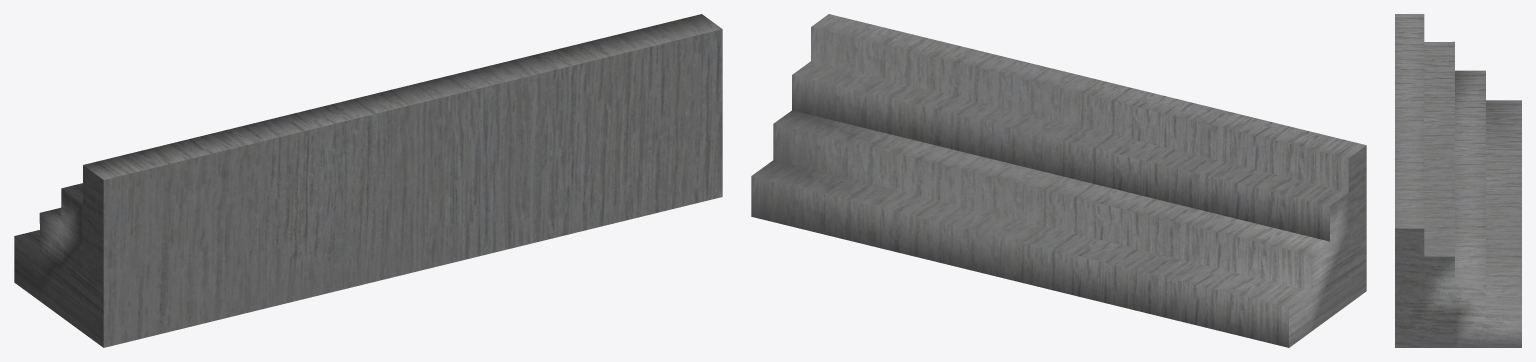
The model's file is StairsBlock.obj.
3 renders of one model, left to right at view 1: azimuth 30°, elevation 25°; view 2: azimuth 150°, elevation 25°; view 3: azimuth 270°, elevation 25°, orthographic. The views are drawn at different scales.
Visible parts, largest first — view 1: polySurface3 polySurface2 pCube7; view 2: polySurface3 polySurface2 pCube7; view 3: polySurface3 polySurface2 pCube7.
Boxes of the visible parts, left/top/right/bottom form: polySurface3 polySurface2 pCube7: left=14, top=14, right=722, bottom=347; polySurface3 polySurface2 pCube7: left=751, top=14, right=1366, bottom=347; polySurface3 polySurface2 pCube7: left=1395, top=14, right=1521, bottom=347.
Size of the model in its own units: 40 by 10.37 by 10.
Materials: 1 (1 with a texture image).
